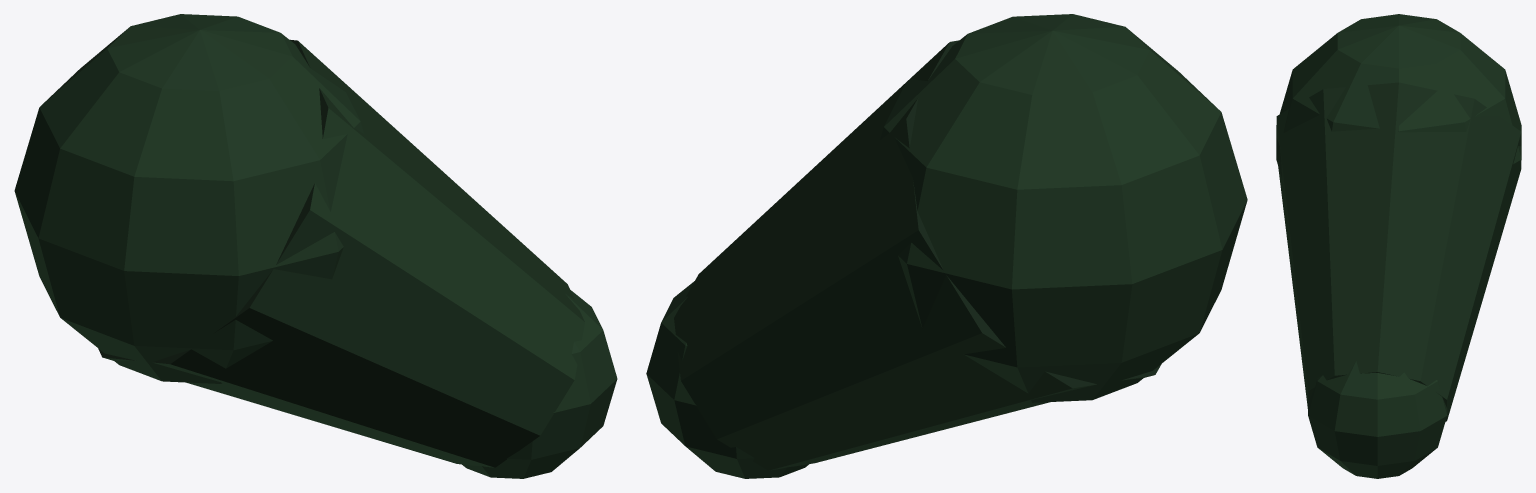
The model's file is SM_velociraptor_hind_r_Upper.fbx.
3 renders of one model, left to right at view 1: azimuth 30°, elevation 25°; view 2: azimuth 150°, elevation 25°; view 3: azimuth 270°, elevation 25°, orthographic. The views are drawn at different scales.
Parts seen in each view (by area): view 1: SM_velociraptor_hind_r_Upper export; view 2: SM_velociraptor_hind_r_Upper export; view 3: SM_velociraptor_hind_r_Upper export.
Part boxes in pixels (x1,y1,x2,y2): SM_velociraptor_hind_r_Upper export: (14,14,617,478); SM_velociraptor_hind_r_Upper export: (646,14,1247,478); SM_velociraptor_hind_r_Upper export: (1276,14,1521,478).
Bounding box in the file's own units: 228 × 127 × 199.
